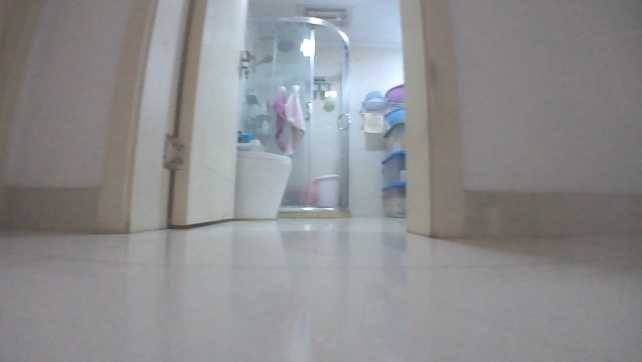door_anno: (166, 0, 250, 227)
toilet: (233, 149, 294, 222)
